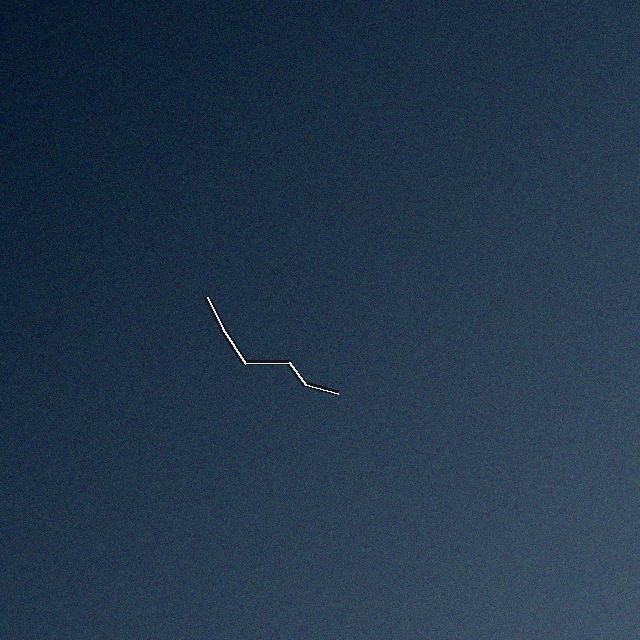defect: (198, 288, 345, 400)
